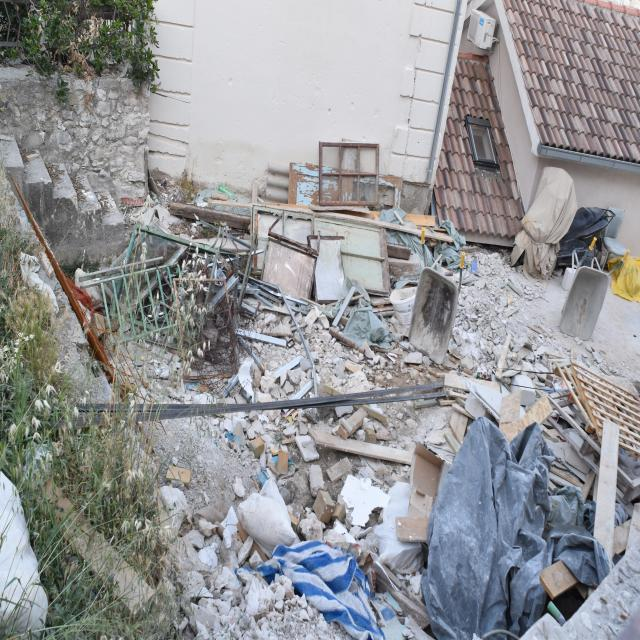entulho: (422, 419, 607, 634), (251, 202, 400, 304), (508, 157, 616, 281), (119, 222, 222, 346), (262, 537, 383, 640), (79, 262, 186, 346), (168, 274, 239, 375), (290, 166, 404, 223), (538, 411, 602, 494), (385, 216, 474, 271), (410, 270, 463, 362), (553, 262, 609, 345), (320, 140, 379, 217), (236, 485, 297, 555), (500, 318, 576, 374), (394, 450, 436, 547), (315, 428, 411, 464), (573, 366, 636, 414), (385, 582, 431, 629), (517, 396, 555, 440), (174, 204, 238, 228), (499, 389, 522, 445), (389, 285, 417, 330), (330, 327, 368, 357), (333, 286, 358, 327), (271, 355, 303, 384), (339, 406, 367, 439), (237, 328, 286, 346), (238, 358, 257, 401), (254, 301, 302, 318), (286, 380, 315, 406), (448, 408, 469, 443), (495, 338, 511, 377), (308, 464, 326, 494), (631, 502, 640, 556), (450, 403, 474, 421), (414, 398, 437, 409), (438, 398, 462, 408)
lixo domiciliar: (218, 506, 238, 544), (232, 477, 245, 498), (226, 431, 240, 448)
